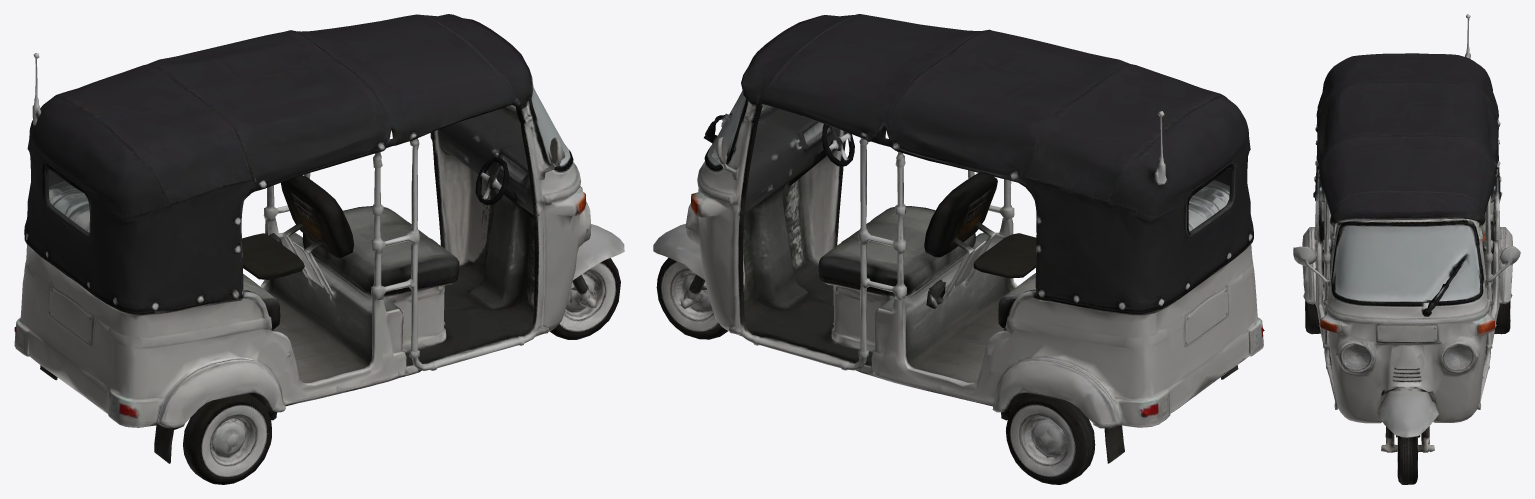
Rendered from tuk.glb.
The picture shows the model from 3 angles, left to right: view 1: azimuth 30°, elevation 25°; view 2: azimuth 150°, elevation 25°; view 3: azimuth 270°, elevation 25°; orthographic projection. The views are drawn at different scales.
Parts seen in each view (by area): view 1: tripo_node_17fd145a-8675-4ac6-bb4f-7950712a3b92; view 2: tripo_node_17fd145a-8675-4ac6-bb4f-7950712a3b92; view 3: tripo_node_17fd145a-8675-4ac6-bb4f-7950712a3b92.
Part boxes in pixels (x1,y1,x2,y2): tripo_node_17fd145a-8675-4ac6-bb4f-7950712a3b92: (14,14,624,484); tripo_node_17fd145a-8675-4ac6-bb4f-7950712a3b92: (653,14,1264,484); tripo_node_17fd145a-8675-4ac6-bb4f-7950712a3b92: (1293,14,1520,484).
Size of the model in its own units: 1 by 0.6449 by 0.469.
Materials: 1 (1 with a texture image).
